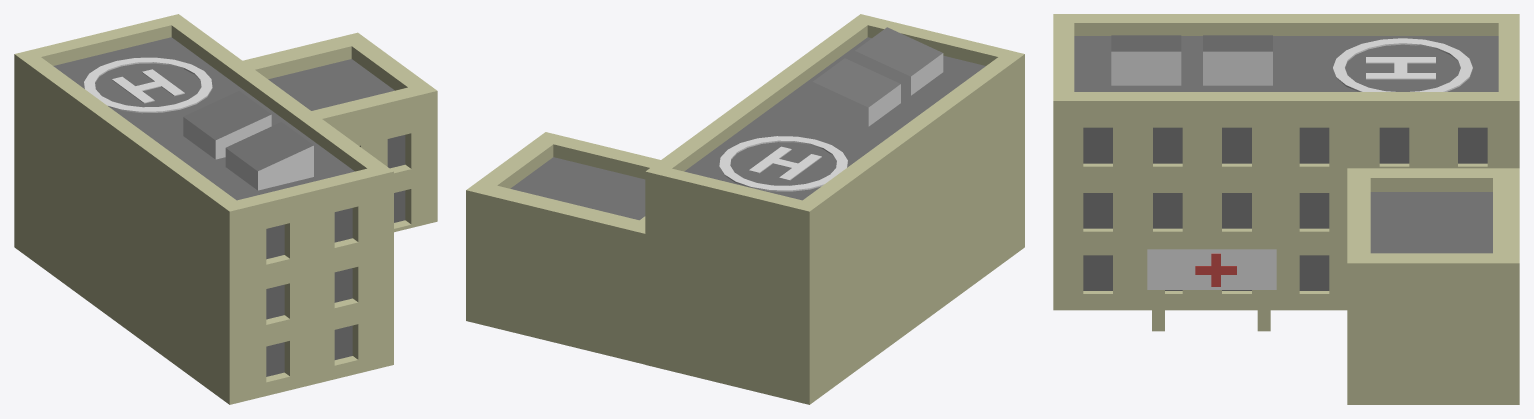
File: hospital-daviF.fbx
The picture shows the model from 3 angles, left to right: view 1: azimuth 30°, elevation 25°; view 2: azimuth 150°, elevation 25°; view 3: azimuth 270°, elevation 25°; orthographic projection. The views are drawn at different scales.
Parts seen in each view (by area): view 1: pCube59, pCube22, pCube62, pCube65, pCylinder3, pCube68; view 2: pCube59, pCube22, pCube65, pCube62, pCylinder3; view 3: pCube59, pCube22, pCube64, pCube62, pCube65, pCylinder3, pCube61, pCube60, pCube69, pCube68.
Boxes of the visible parts, x1=… form: pCube59: x1=14, y1=14, x2=393, y2=404; pCube22: x1=243, y1=32, x2=437, y2=232; pCube62: x1=225, y1=122, x2=313, y2=190; pCube65: x1=183, y1=91, x2=271, y2=159; pCylinder3: x1=84, y1=57, x2=212, y2=113; pCube68: x1=112, y1=76, x2=154, y2=103; pCube59: x1=645, y1=14, x2=1024, y2=404; pCube22: x1=466, y1=132, x2=660, y2=364; pCube65: x1=812, y1=58, x2=900, y2=126; pCube62: x1=855, y1=27, x2=943, y2=95; pCylinder3: x1=719, y1=136, x2=847, y2=191; pCube59: x1=1053, y1=14, x2=1519, y2=310; pCube22: x1=1347, y1=168, x2=1519, y2=404; pCube64: x1=1147, y1=249, x2=1276, y2=289; pCube62: x1=1111, y1=35, x2=1181, y2=85; pCube65: x1=1203, y1=35, x2=1272, y2=85; pCylinder3: x1=1333, y1=38, x2=1472, y2=91; pCube61: x1=1257, y1=290, x2=1270, y2=331; pCube60: x1=1152, y1=290, x2=1164, y2=331; pCube69: x1=1366, y1=73, x2=1435, y2=79; pCube68: x1=1366, y1=57, x2=1435, y2=63.
Size of the model in its own units: 6.14 by 3.64 by 6.66.
